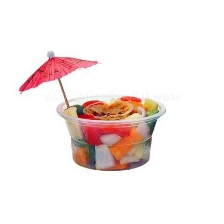glass: (48, 90, 171, 176)
